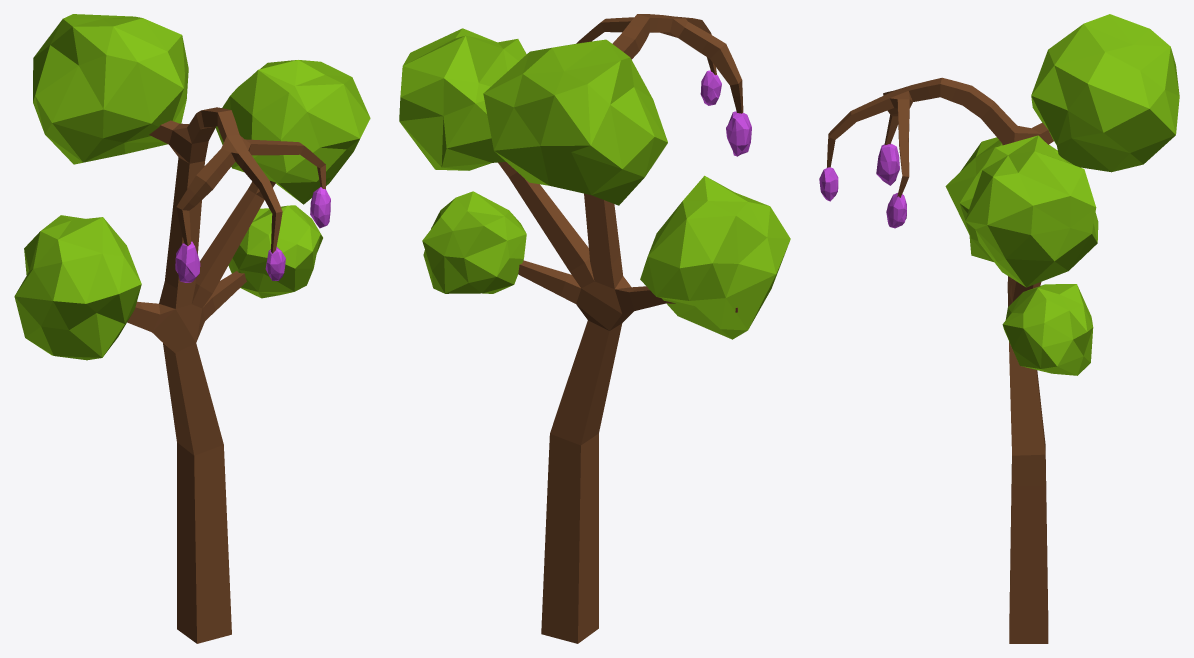
File: lantern.01.fbx
The picture shows the model from 3 angles, left to right: view 1: azimuth 30°, elevation 25°; view 2: azimuth 150°, elevation 25°; view 3: azimuth 270°, elevation 25°; orthographic projection. The views are drawn at different scales.
Visible parts, largest first — view 1: Vert, branch002, branch003, branch004, branch001, crystal, crystal.002, crystal.001; view 2: Vert, branch002, branch003, branch004, branch001, crystal, crystal.001; view 3: branch002, Vert, branch004, branch001, branch003, crystal, crystal.002, crystal.001.
Part boxes in pixels (<box>): Vert: <box>127,107,325,643</box>; branch002: <box>33,14,188,164</box>; branch003: <box>14,215,141,360</box>; branch004: <box>215,60,370,204</box>; branch001: <box>228,205,322,298</box>; crystal: <box>175,241,200,282</box>; crystal.002: <box>310,187,330,228</box>; crystal.001: <box>265,247,285,280</box>; Vert: <box>498,14,743,643</box>; branch002: <box>483,39,667,205</box>; branch003: <box>640,175,790,339</box>; branch004: <box>399,28,526,170</box>; branch001: <box>422,191,526,293</box>; crystal: <box>726,111,751,156</box>; crystal.001: <box>700,70,721,105</box>; branch002: <box>1031,14,1179,172</box>; Vert: <box>827,77,1053,643</box>; branch004: <box>965,135,1098,287</box>; branch001: <box>1002,284,1093,375</box>; branch003: <box>945,137,1058,261</box>; crystal: <box>876,143,899,185</box>; crystal.002: <box>886,193,906,228</box>; crystal.001: <box>819,167,838,201</box>.
Bounding box in the file's own units: 480 × 795 × 445.
